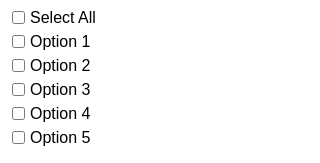
MultiCheck component › should uncheck all options when Select All is clicked twice
The width and height of the screenshot is (320, 163).
Click the checkbox labelled "Select All".
click(18, 18)  # box [12,11,25,24]
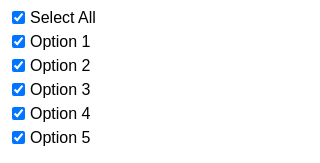
Click the checkbox labelled "Select All".
click(18, 18)  # box [12,11,25,24]
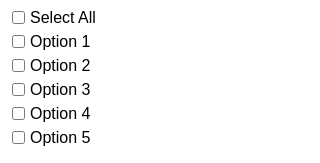
Now the checkbox labelled "Option 1" is not checked, box [12,35,25,48]
Now the checkbox labelled "Option 2" is not checked, box [12,59,25,72]
Now the checkbox labelled "Option 3" is not checked, box [12,83,25,96]
